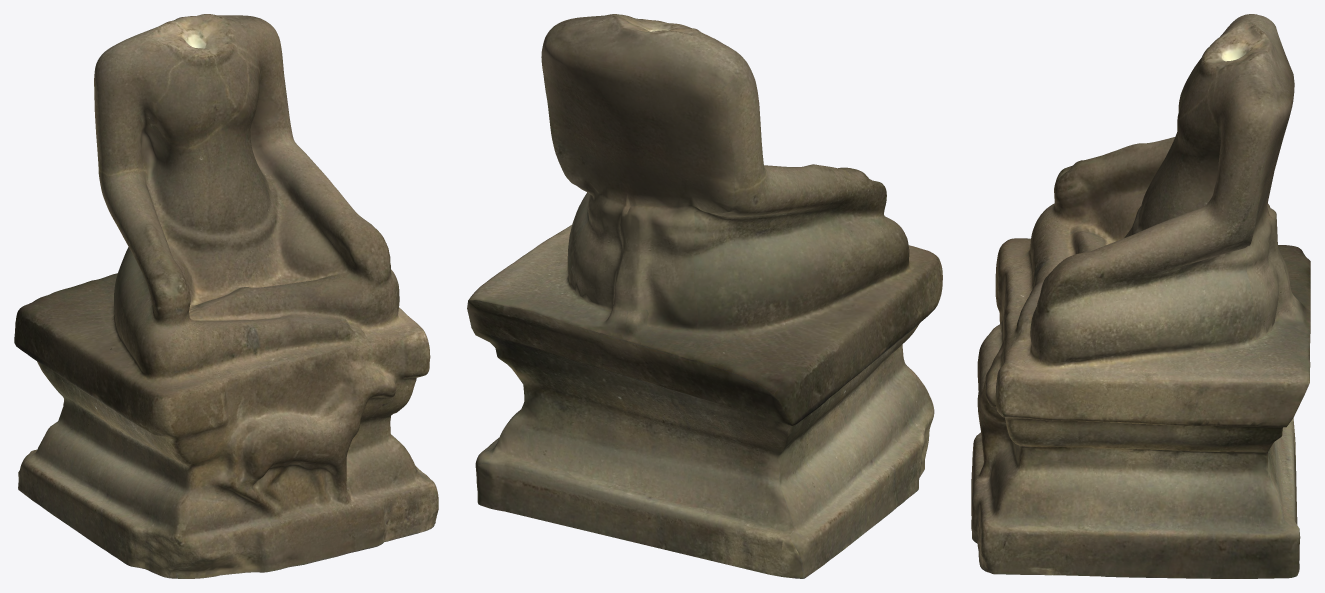
Rendered from 12_thanphuonghuong_vayu_final.glb.
The picture shows the model from 3 angles, left to right: view 1: azimuth 30°, elevation 25°; view 2: azimuth 150°, elevation 25°; view 3: azimuth 270°, elevation 25°; orthographic projection. The views are drawn at different scales.
Bounding box in the file's own units: 0.3364 × 0.4862 × 0.3187.
Materials: 1 (1 with a texture image).
